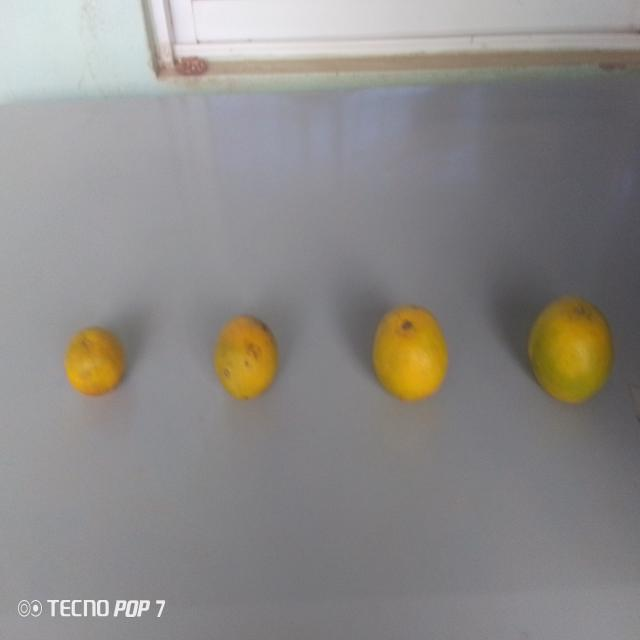Ripe orange: (522, 292, 620, 406), (367, 301, 454, 409), (210, 308, 283, 411), (55, 322, 138, 405)
